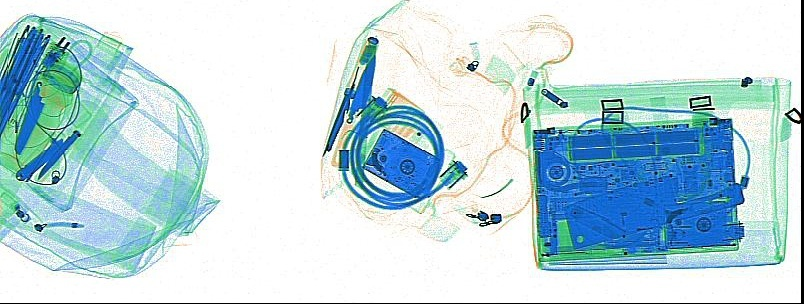knife: (561, 171, 745, 249), (320, 36, 377, 157), (330, 54, 376, 166), (12, 78, 44, 154), (36, 129, 81, 182), (570, 205, 632, 242), (13, 137, 65, 181)
